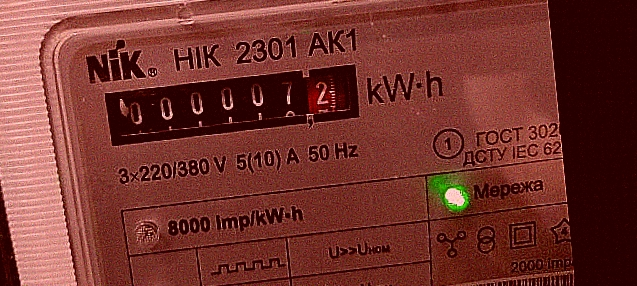0: (156, 93, 176, 123), (125, 98, 145, 127), (186, 88, 206, 117), (247, 80, 266, 109), (217, 84, 235, 112)
2: (312, 77, 331, 108)
7: (277, 78, 296, 108)
screen: (94, 55, 373, 153)
